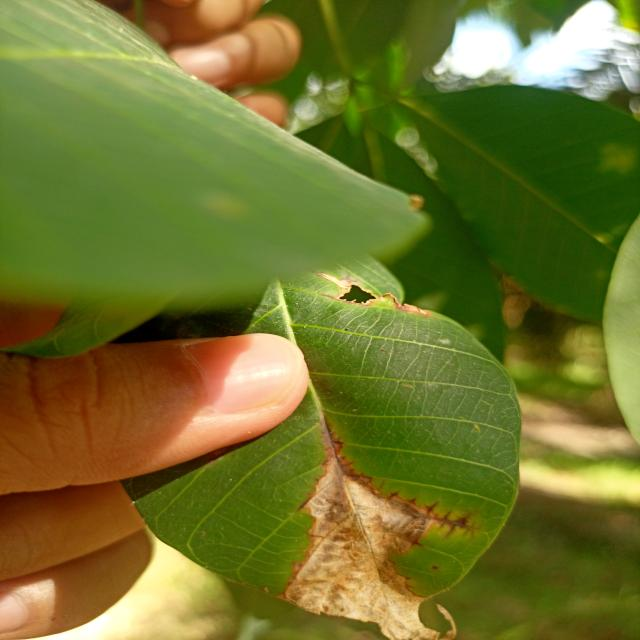Corynespora: (354, 474, 481, 538)
Leaf-Blight: (277, 455, 456, 640), (321, 273, 352, 290)
